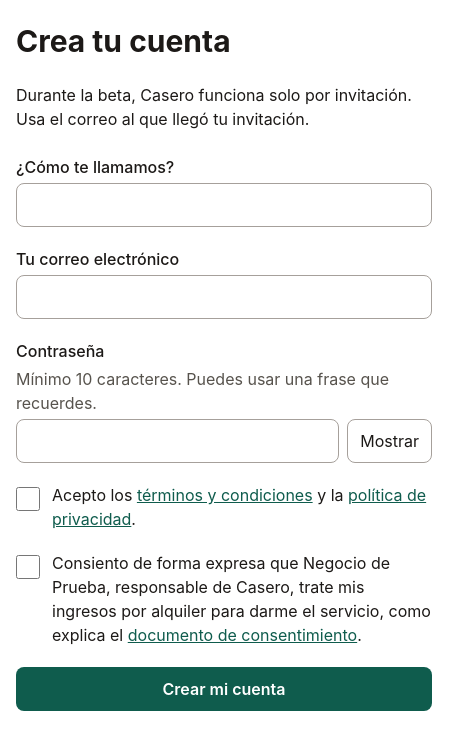
Test: registration › asks for every field and both acceptances
This screenshot has width=449, height=738.
Type "corta" into the password field labelled "Contraseña" at {"x": 178, "y": 441}, box [16, 419, 339, 463]
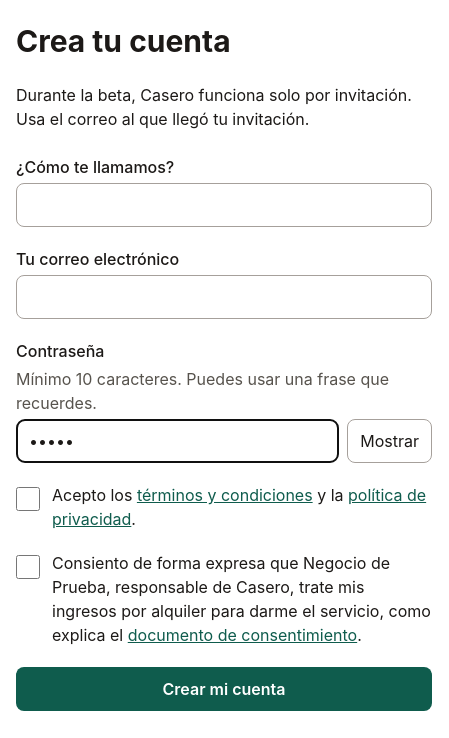
Click the button "Crear mi cuenta" at {"x": 224, "y": 689}, box [16, 667, 432, 711]
(page scrolled)
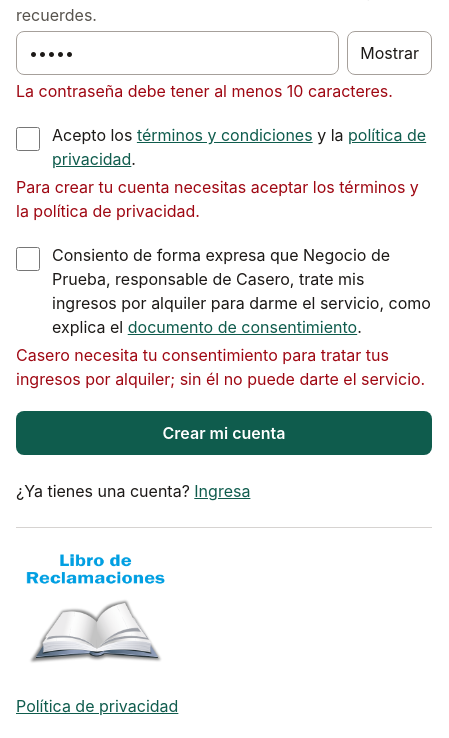
Expected: the text "La contraseña debe tener al menos 10 caracteres." is shown, [16, 79, 432, 103]
Expected: the text "Para crear tu cuenta necesitas aceptar los términos y la política de privacidad." is shown, [16, 175, 432, 223]
Expected: the text "Casero necesita tu consentimiento" is shown, [16, 345, 425, 389]
